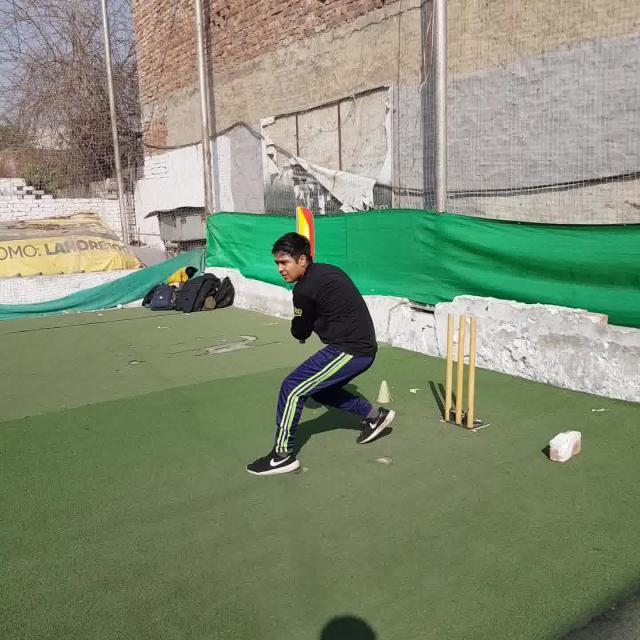bat: (296, 206, 314, 345)
